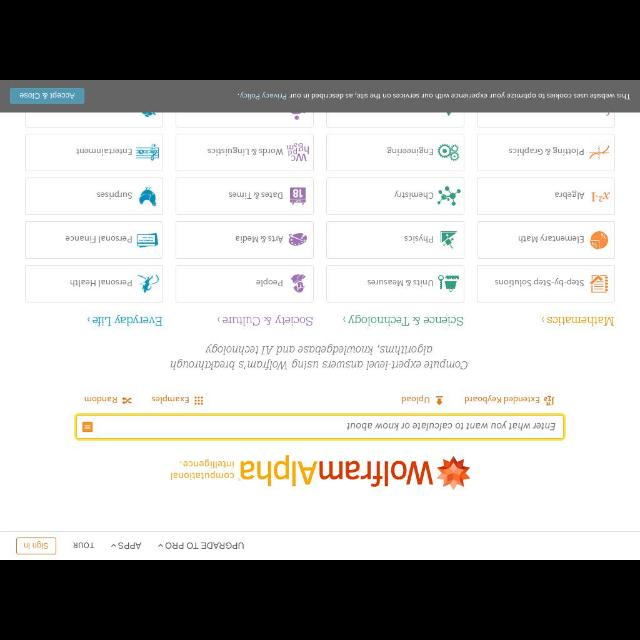icon: (82, 421, 94, 433), (543, 396, 553, 406), (435, 394, 443, 406), (194, 396, 203, 406), (121, 396, 131, 404), (108, 542, 118, 548), (158, 542, 164, 548)
iframe: (1, 82, 637, 111), (589, 275, 609, 293)
image: (170, 455, 470, 489), (136, 272, 160, 294), (136, 141, 160, 163), (284, 142, 310, 162), (436, 186, 459, 208), (136, 187, 158, 210), (588, 143, 610, 163), (436, 144, 462, 160), (590, 230, 610, 250), (438, 274, 458, 294), (287, 230, 307, 250), (136, 231, 156, 251), (590, 274, 608, 294), (590, 190, 610, 206), (290, 274, 306, 294), (440, 230, 456, 248), (290, 186, 306, 204)
input: (74, 412, 566, 440)
link: (238, 92, 286, 98)
spinner: (214, 314, 222, 330), (340, 316, 348, 330), (536, 316, 546, 326), (86, 314, 92, 326), (108, 542, 118, 548), (158, 542, 165, 550)
text: (168, 344, 468, 370), (238, 91, 630, 101), (346, 422, 556, 432), (348, 315, 464, 331), (222, 314, 314, 330), (508, 144, 584, 158), (93, 314, 163, 328), (494, 277, 584, 287), (366, 276, 434, 288), (464, 395, 540, 405), (65, 233, 131, 244), (545, 317, 615, 327), (68, 278, 134, 288), (166, 542, 244, 550), (230, 188, 282, 200), (206, 147, 282, 155), (74, 147, 132, 157), (517, 234, 585, 242), (394, 190, 434, 202), (235, 234, 282, 244), (386, 146, 432, 156), (18, 92, 74, 100), (151, 395, 189, 405), (402, 233, 433, 245), (554, 190, 584, 202), (83, 395, 115, 405), (95, 192, 132, 200), (400, 396, 430, 404), (257, 279, 283, 287), (24, 541, 48, 549), (73, 541, 94, 549), (118, 542, 142, 548)
textbutton: (10, 88, 84, 106), (16, 537, 56, 553)
